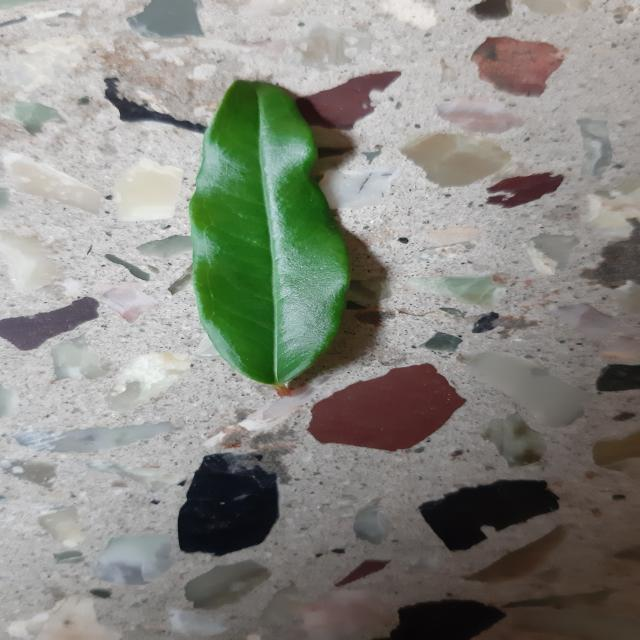pomgranate: (189, 81, 349, 388)
